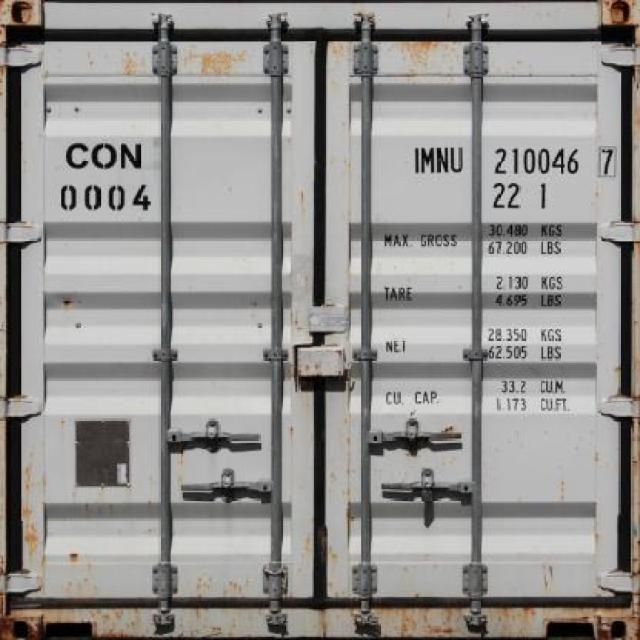ISO: (487, 178, 552, 213)
container_number: (414, 144, 622, 176)
